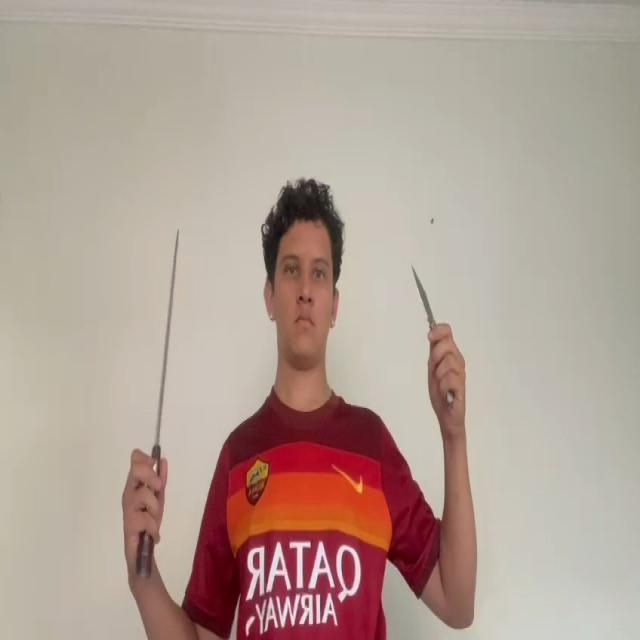knife: (154, 230, 178, 460), (412, 263, 433, 322)
